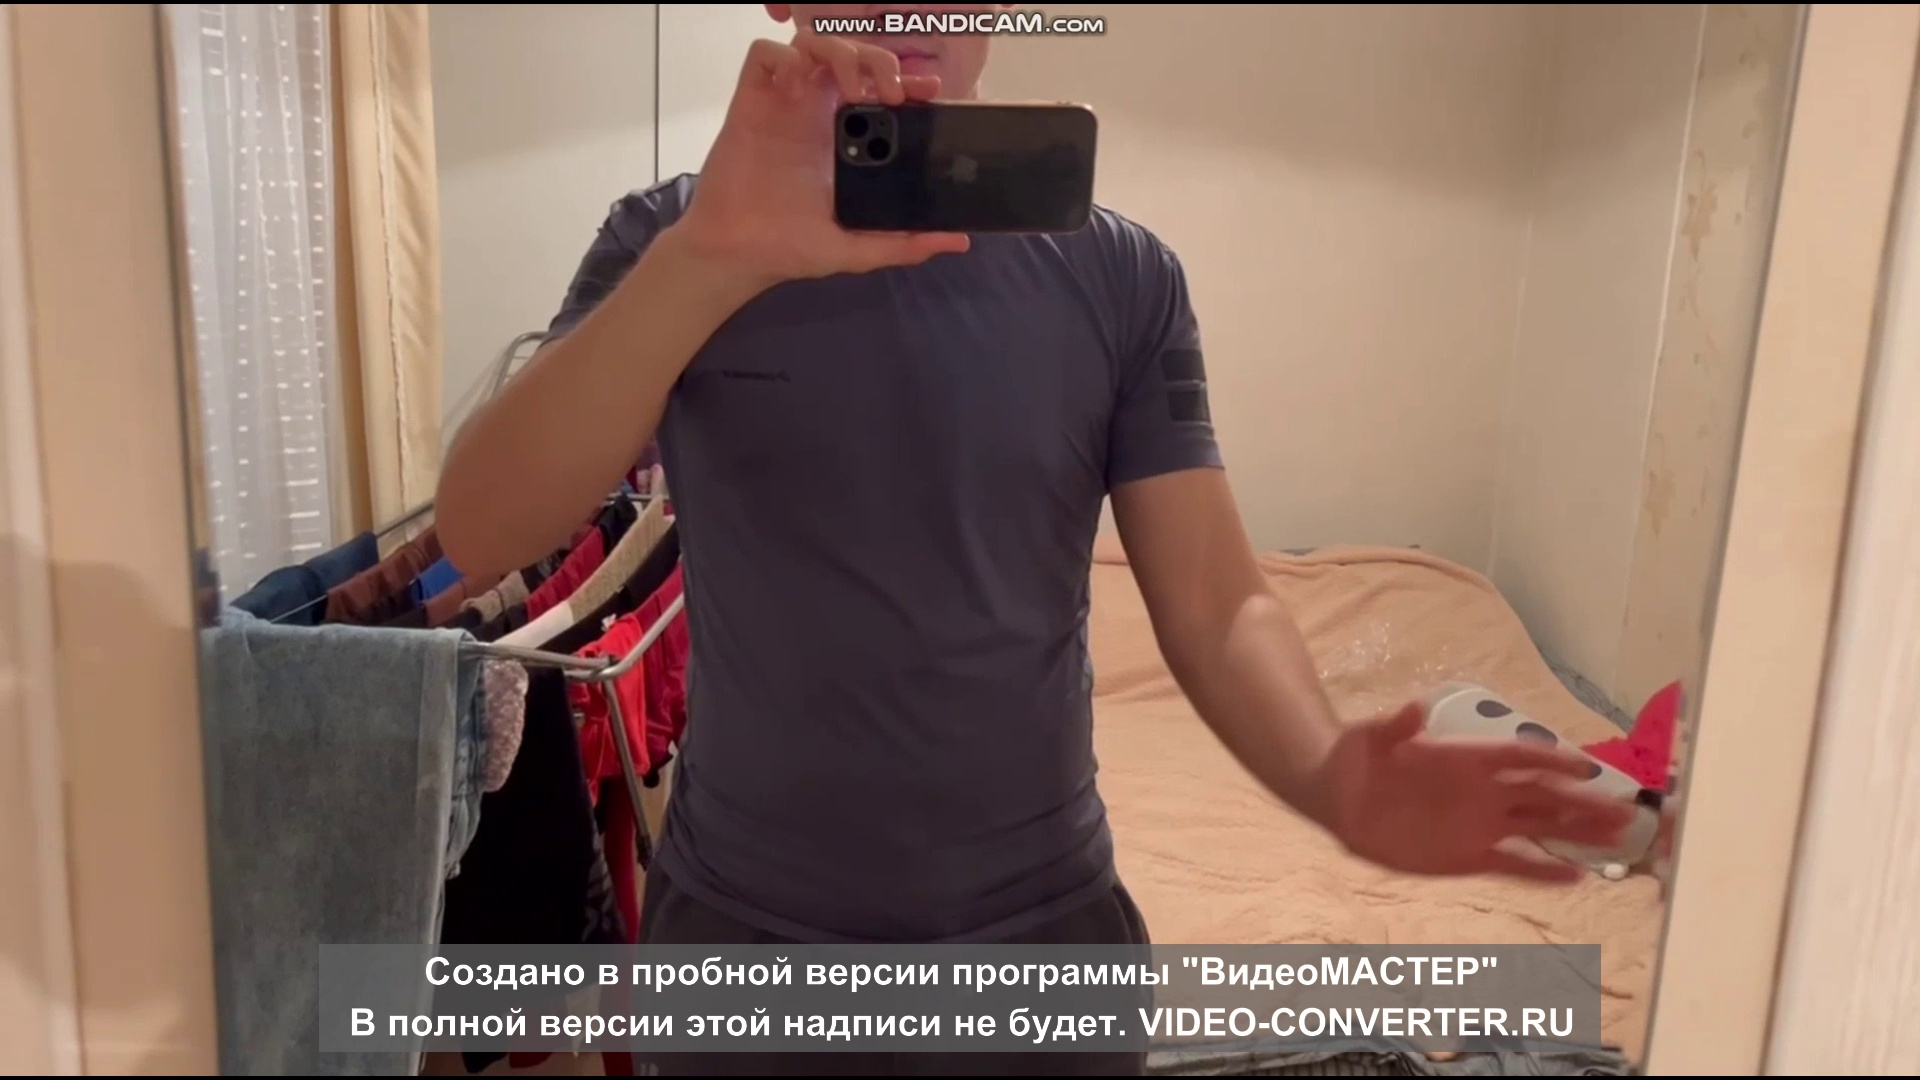Ладонь: (1313, 698, 1634, 890)
